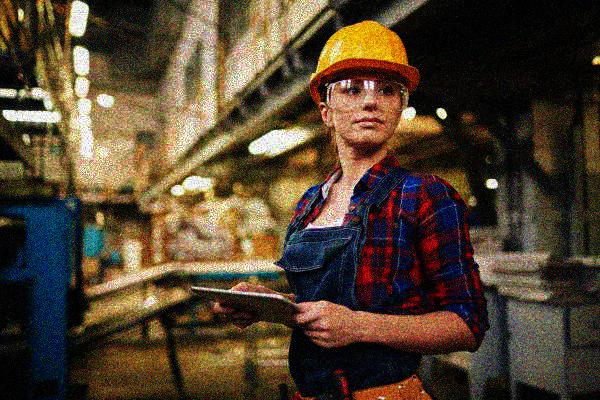helmet: (306, 19, 421, 152)
